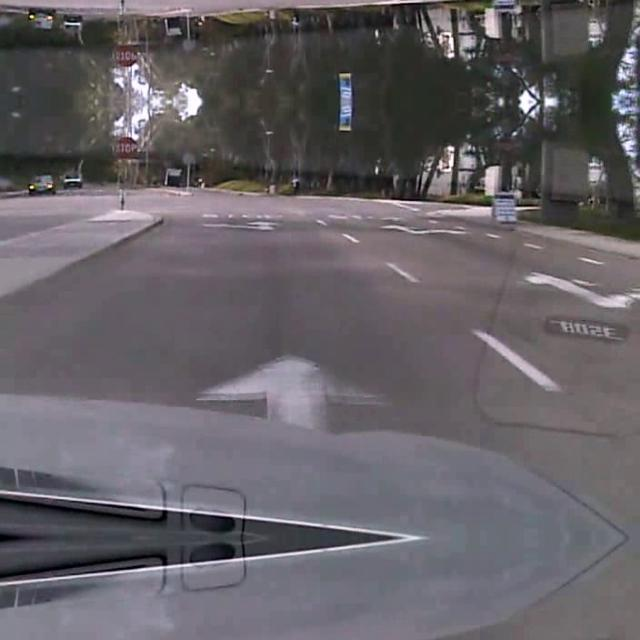stop: (113, 135, 137, 157), (113, 45, 137, 67)
